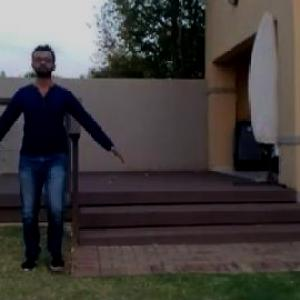land: (0, 46, 134, 277)
